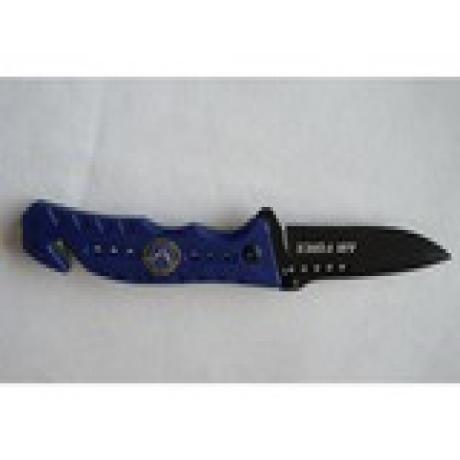weapon: (15, 194, 455, 296)
